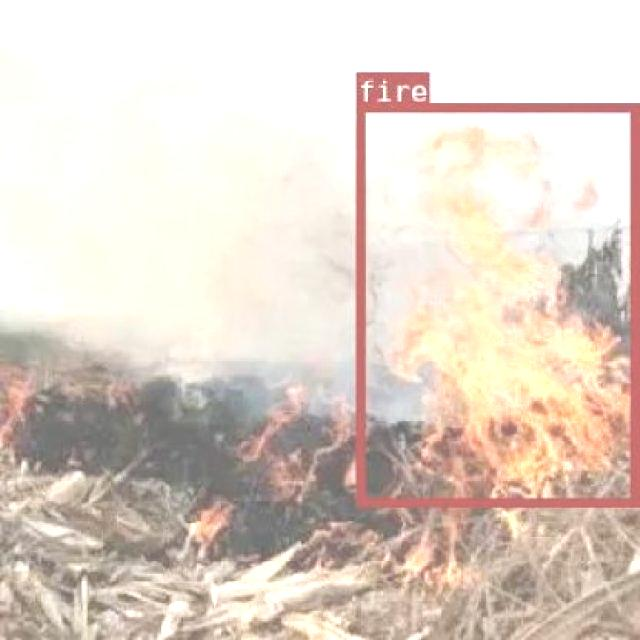fire: (356, 102, 636, 504)
